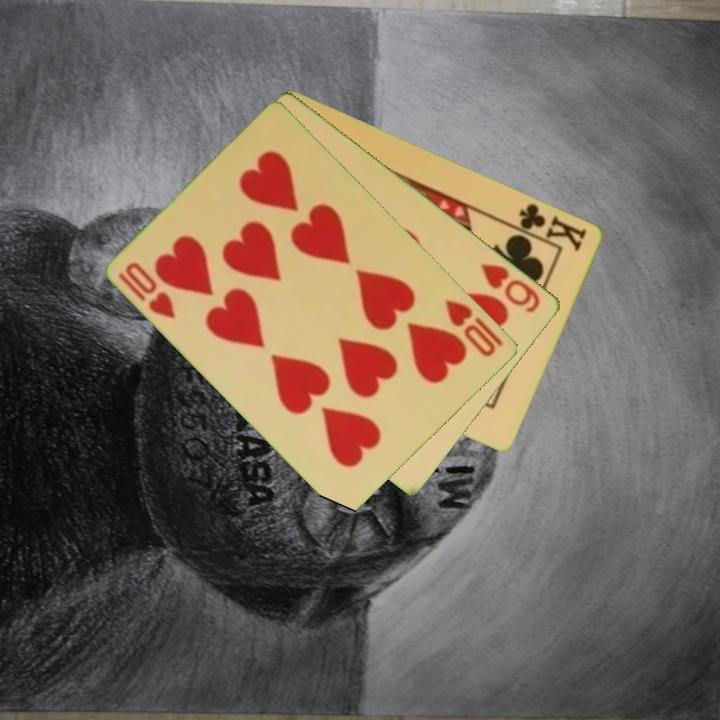10h: (442, 295, 507, 360), (115, 258, 179, 322)
6h: (477, 259, 544, 316)
Kc: (508, 199, 590, 254)
